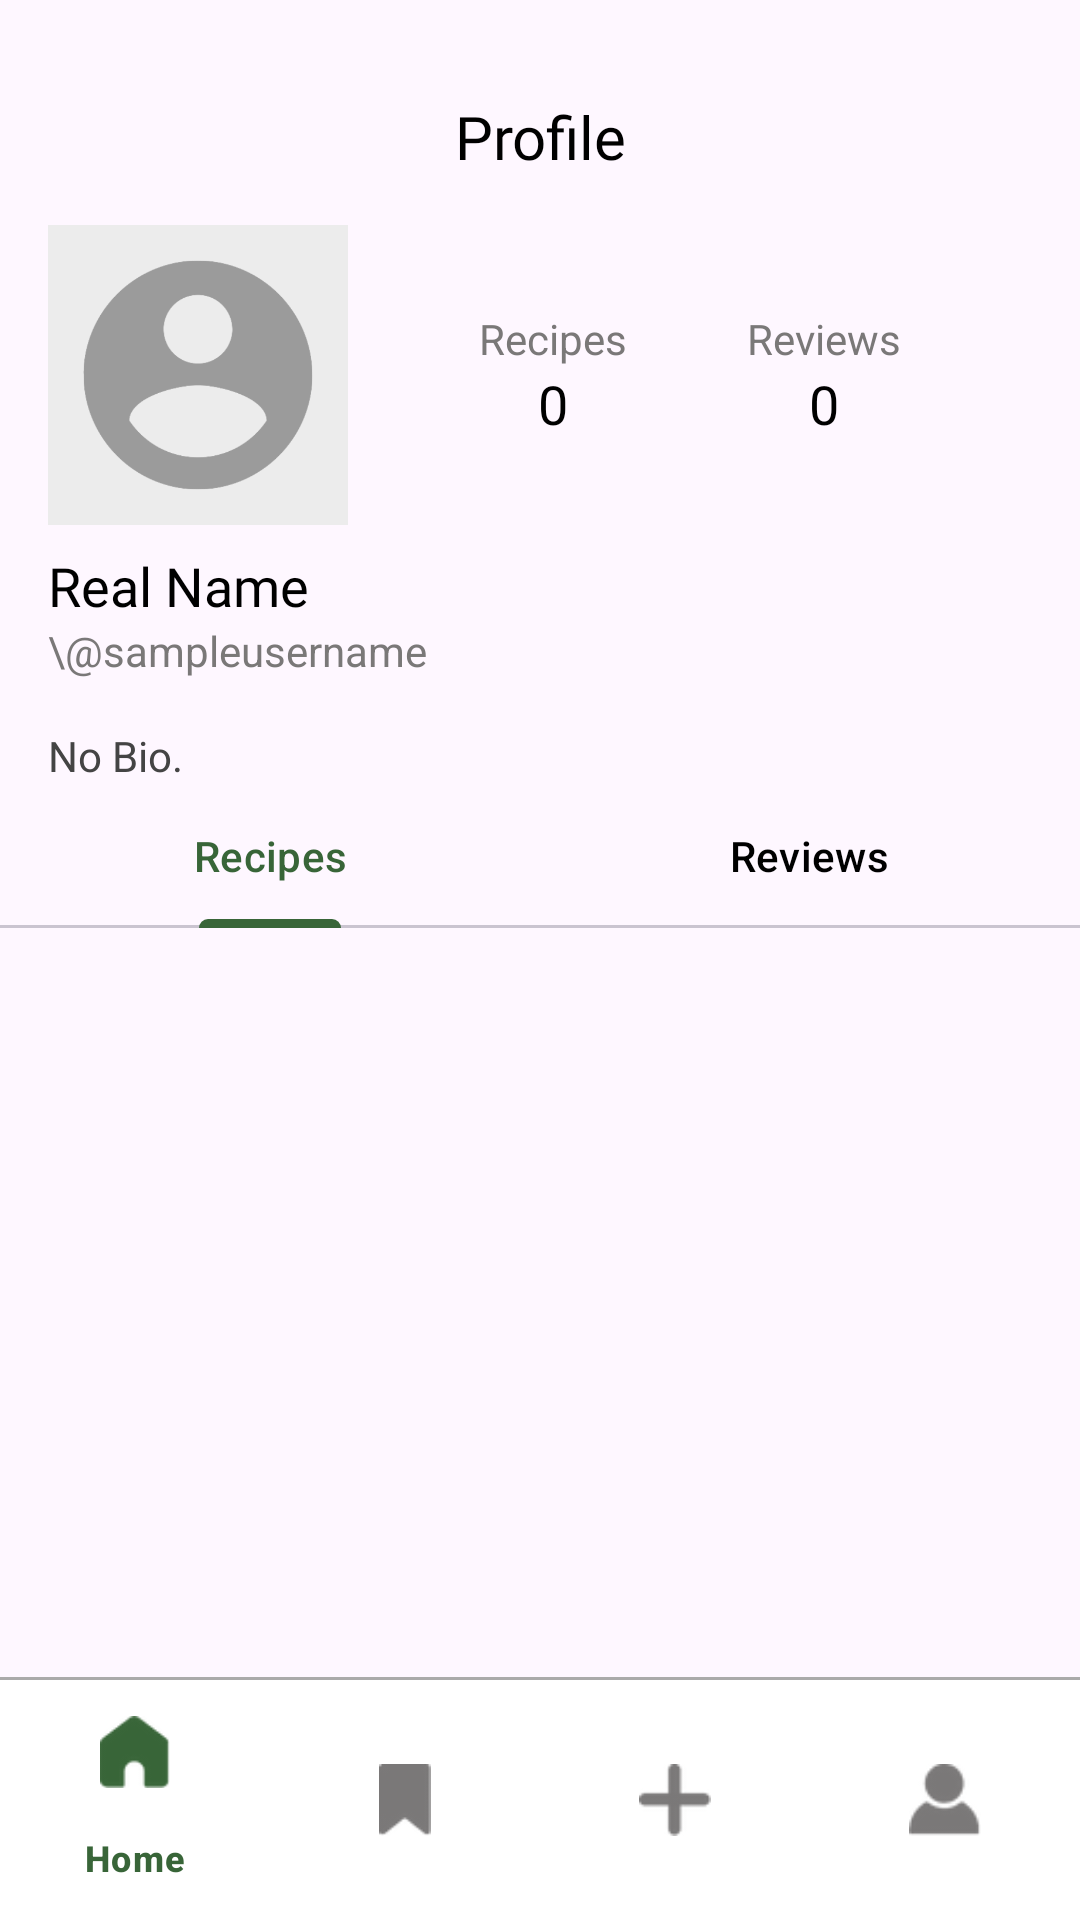

Screen size 1080px x 1920px. Icon name, then its box in pixels as region(x1, y1, x2, y2):
usericon playstore: region(83, 260, 313, 490)
